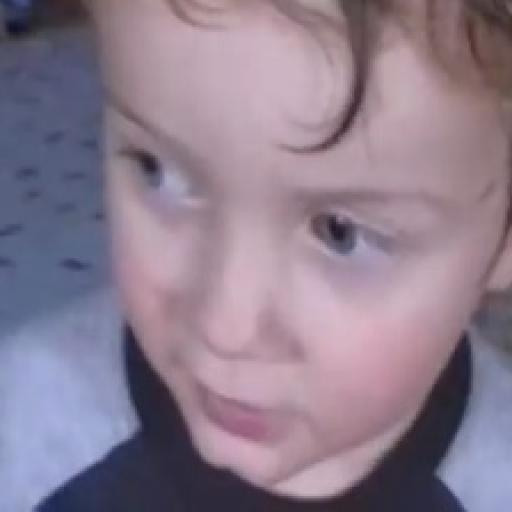Autism: (48, 2, 512, 512)
